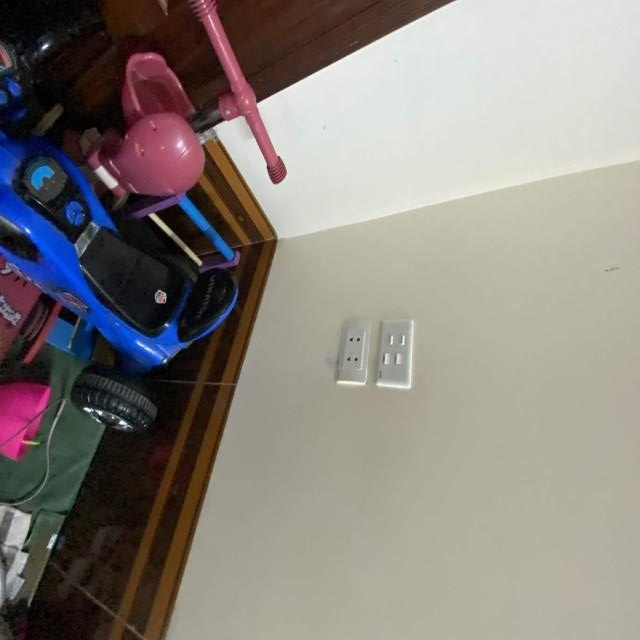outlet: (335, 319, 373, 385)
